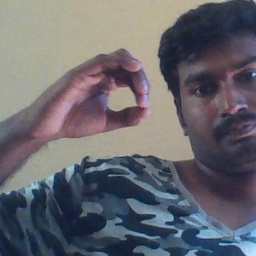O: (32, 46, 155, 139)
